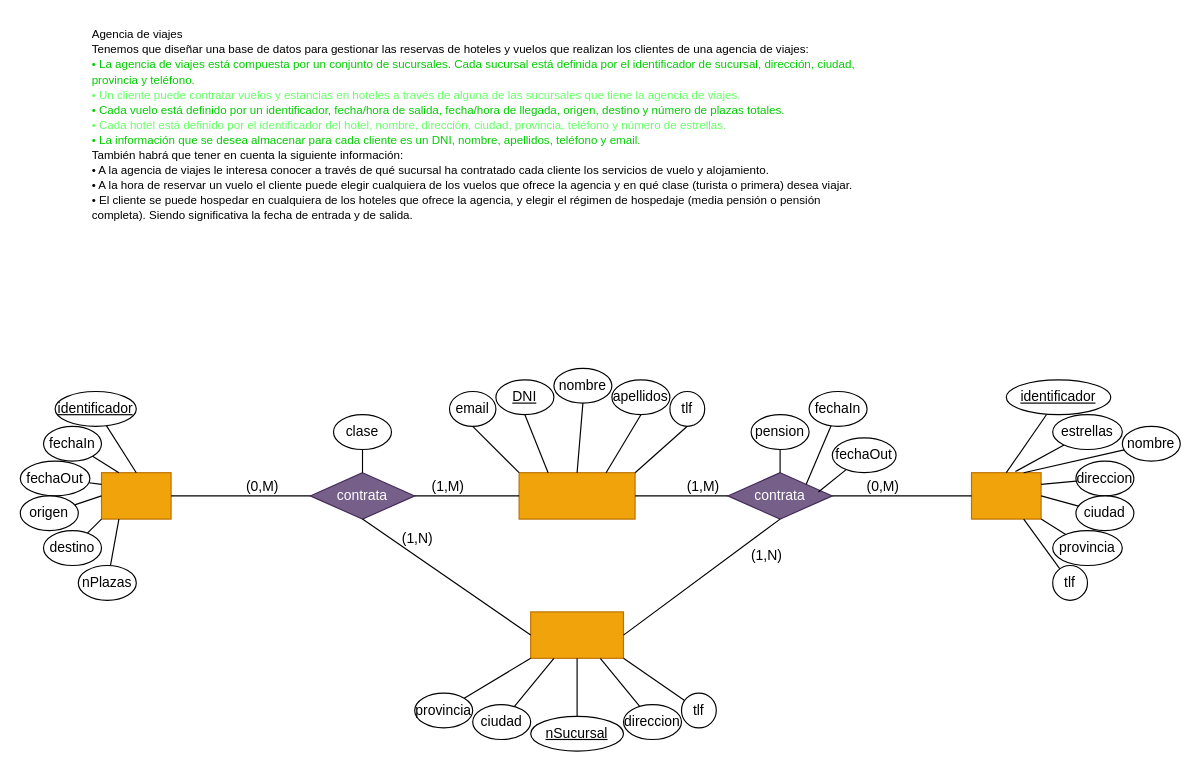
The diagram is 1201 pixels wide and 771 high, and some of its shapes have lost their labels. The centre of each missing label's shape, as x and y in pixels:
"cliente" goes at (576,495).
"hotel" goes at (1005,495).
"sucursal" goes at (577,634).
"vuelo" goes at (135,495).
